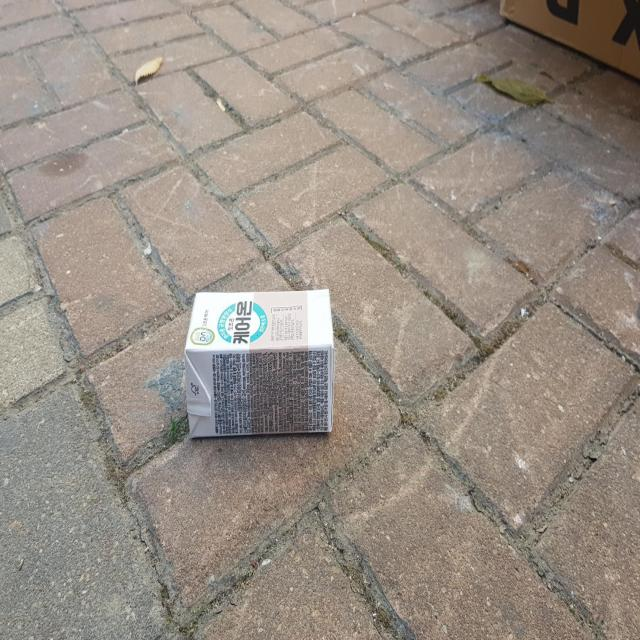paperpack: (184, 288, 335, 437)
